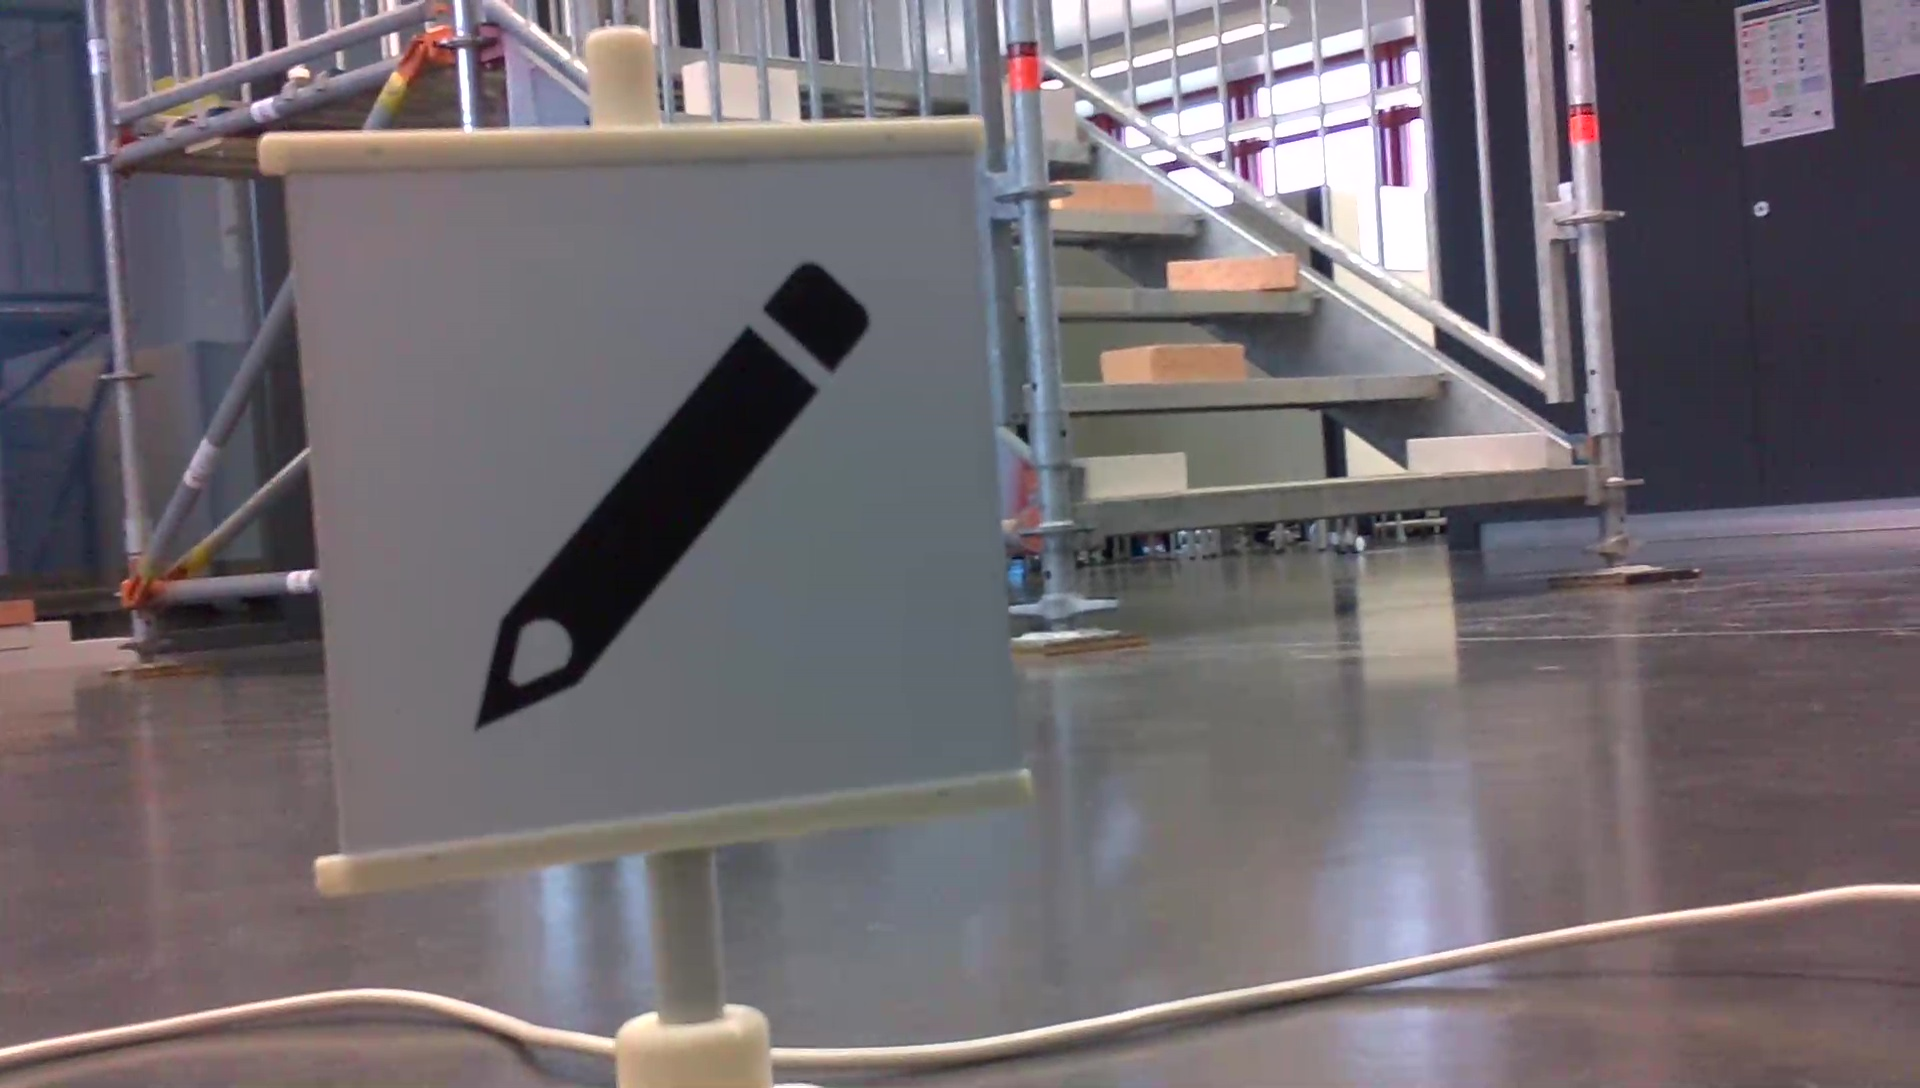brick: (1408, 433, 1544, 471), (1102, 346, 1241, 378), (1170, 256, 1298, 290), (1087, 452, 1184, 495), (1055, 179, 1153, 208), (1038, 86, 1072, 136)
edge: (1089, 469, 1592, 533), (1063, 371, 1448, 410)
pencil: (451, 249, 885, 745)
stairs: (1001, 3, 1700, 662)
